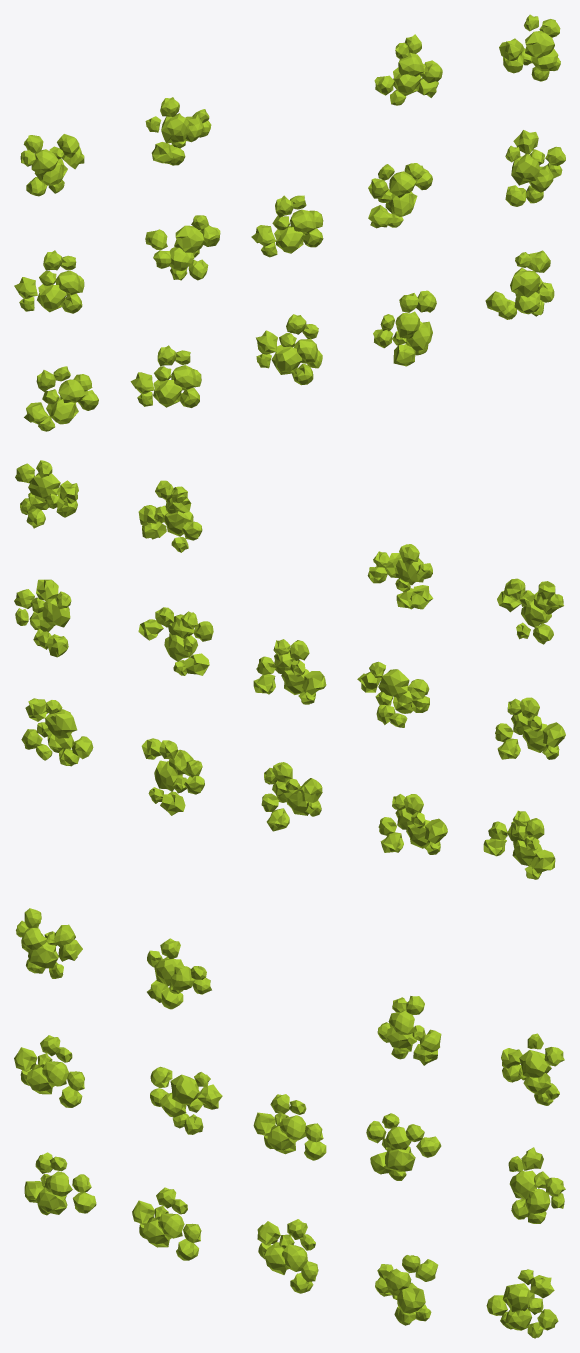
The model's file is leaves3.obj.
3 views of the same model, one above another, from view 1: azimuth 30°, elevation 25°; view 2: azimuth 150°, elevation 25°; view 3: azimuth 330°, elevation 25° (orthographic).
Parts seen in each view (by area): view 1: leaves003; view 2: leaves003; view 3: leaves003.
Part boxes in pixels (x1=…): leaves003: x1=14, y1=14, x2=565, y2=431; leaves003: x1=14, y1=460, x2=565, y2=879; leaves003: x1=14, y1=908, x2=565, y2=1338.
Bounding box in the file's own units: 3.06 × 1.76 × 0.1937.
